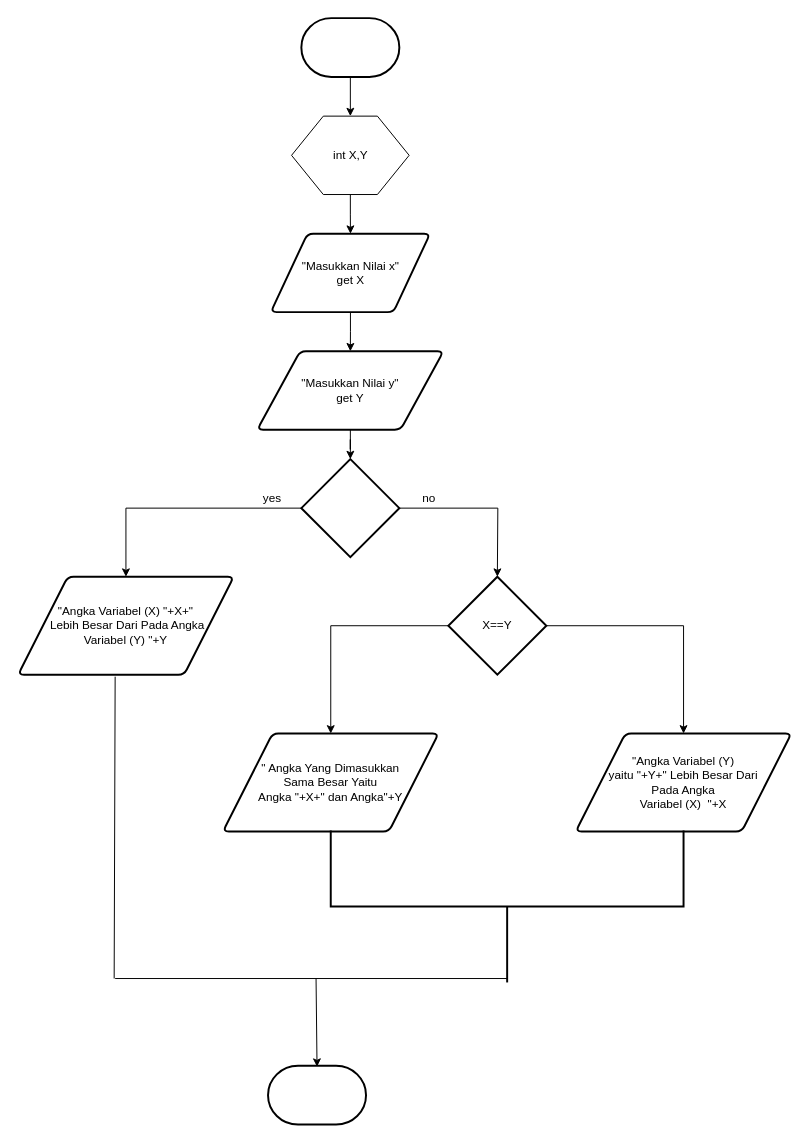
The diagram is 809 pixels wide and 1142 high, and some of its shapes have lost their labels. Here are the shapes that lost their labels. From the top down, the centre of each, then its label:
At point 350,47: "Start".
At point 350,508: "X>Y".
At point 317,1094: "End".
